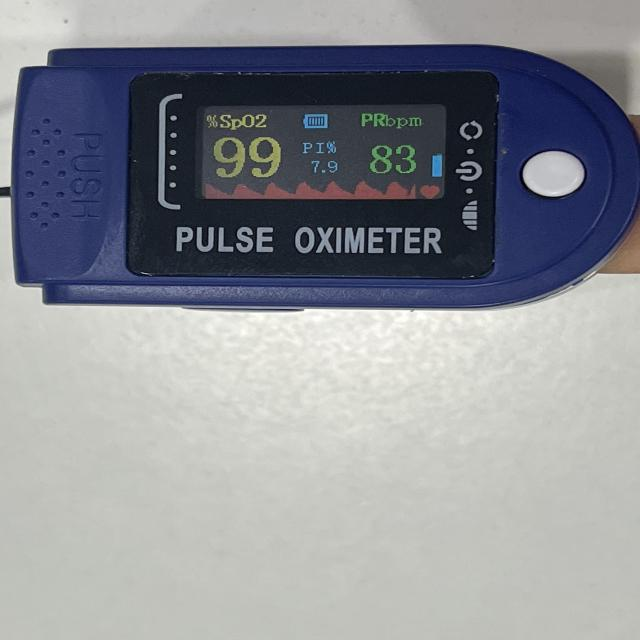spo2: (11, 46, 640, 312)
